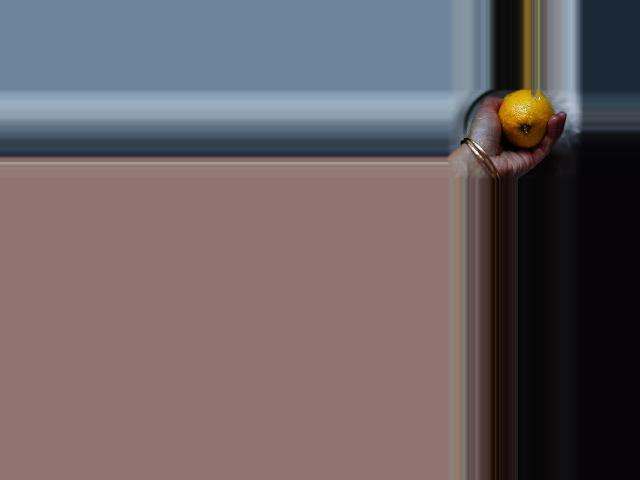lemon: (501, 91, 553, 149)
